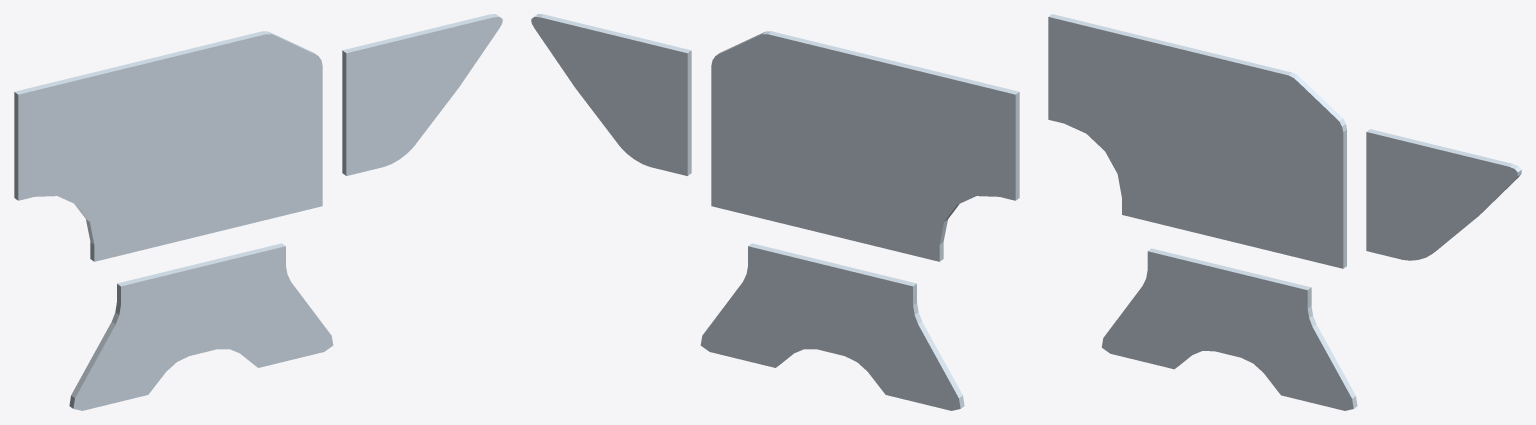
File: Anvil_3D_Icon.fbx
3 renders of one model, left to right at view 1: azimuth 30°, elevation 25°; view 2: azimuth 150°, elevation 25°; view 3: azimuth 330°, elevation 25°, orthographic. The views are drawn at different scales.
Visible parts, largest first — view 1: Anvil_3D_Icon; view 2: Anvil_3D_Icon; view 3: Anvil_3D_Icon.
Part boxes in pixels (bbox=[...]): Anvil_3D_Icon: bbox=[14, 14, 502, 410]; Anvil_3D_Icon: bbox=[531, 14, 1019, 410]; Anvil_3D_Icon: bbox=[1048, 14, 1521, 410].
Bounding box in the file's own units: 140 × 91.67 × 2.
